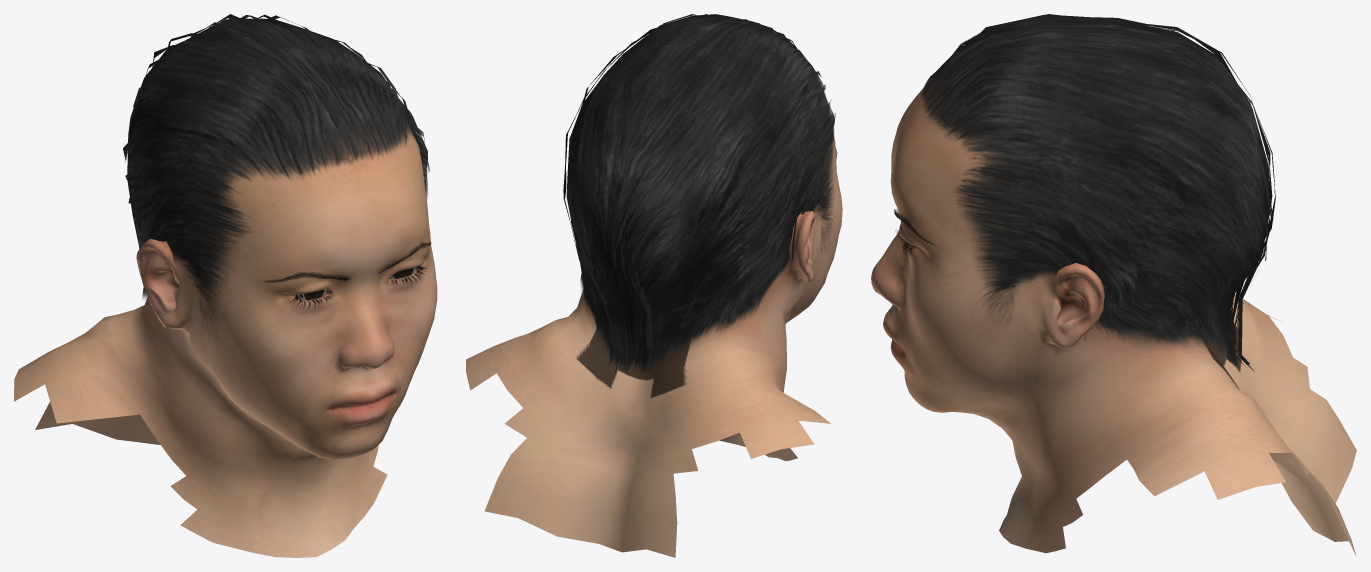
The model's file is patient08.glb.
3 views of the same model, side by side, from view 1: azimuth 30°, elevation 25°; view 2: azimuth 150°, elevation 25°; view 3: azimuth 270°, elevation 25° (orthographic). The views are drawn at different scales.
Visible parts, largest first — view 1: ma_dongcheol.body, ma_dongcheol.short04, ma_dongcheol.eyebrow002, ma_dongcheol.eyelashes01; view 2: ma_dongcheol.short04, ma_dongcheol.body; view 3: ma_dongcheol.body, ma_dongcheol.short04.
Boxes of the visible parts, bbox=[...] form: ma_dongcheol.body: bbox=[14, 126, 437, 557]; ma_dongcheol.short04: bbox=[123, 14, 429, 334]; ma_dongcheol.eyebrow002: bbox=[263, 241, 431, 282]; ma_dongcheol.eyelashes01: bbox=[289, 265, 427, 308]; ma_dongcheol.short04: bbox=[563, 14, 835, 379]; ma_dongcheol.body: bbox=[466, 93, 842, 557]; ma_dongcheol.body: bbox=[871, 80, 1356, 556]; ma_dongcheol.short04: bbox=[921, 14, 1275, 371].
Bounding box in the file's own units: 0.2549 × 0.3029 × 0.2664.
Materials: 8 (7 with a texture image).
